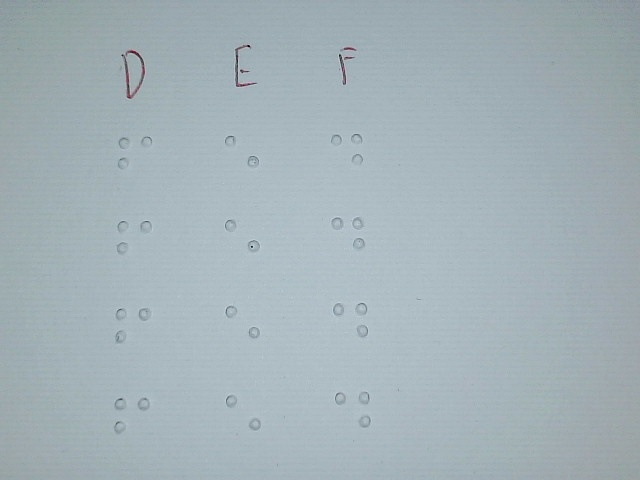D: (328, 121, 366, 187), (329, 203, 367, 269), (332, 291, 370, 357), (333, 379, 371, 445)
E: (223, 124, 260, 188), (224, 206, 261, 270), (225, 294, 262, 358), (224, 380, 261, 444)
F: (116, 124, 154, 190), (115, 208, 153, 274), (115, 295, 153, 361), (113, 385, 151, 451)
